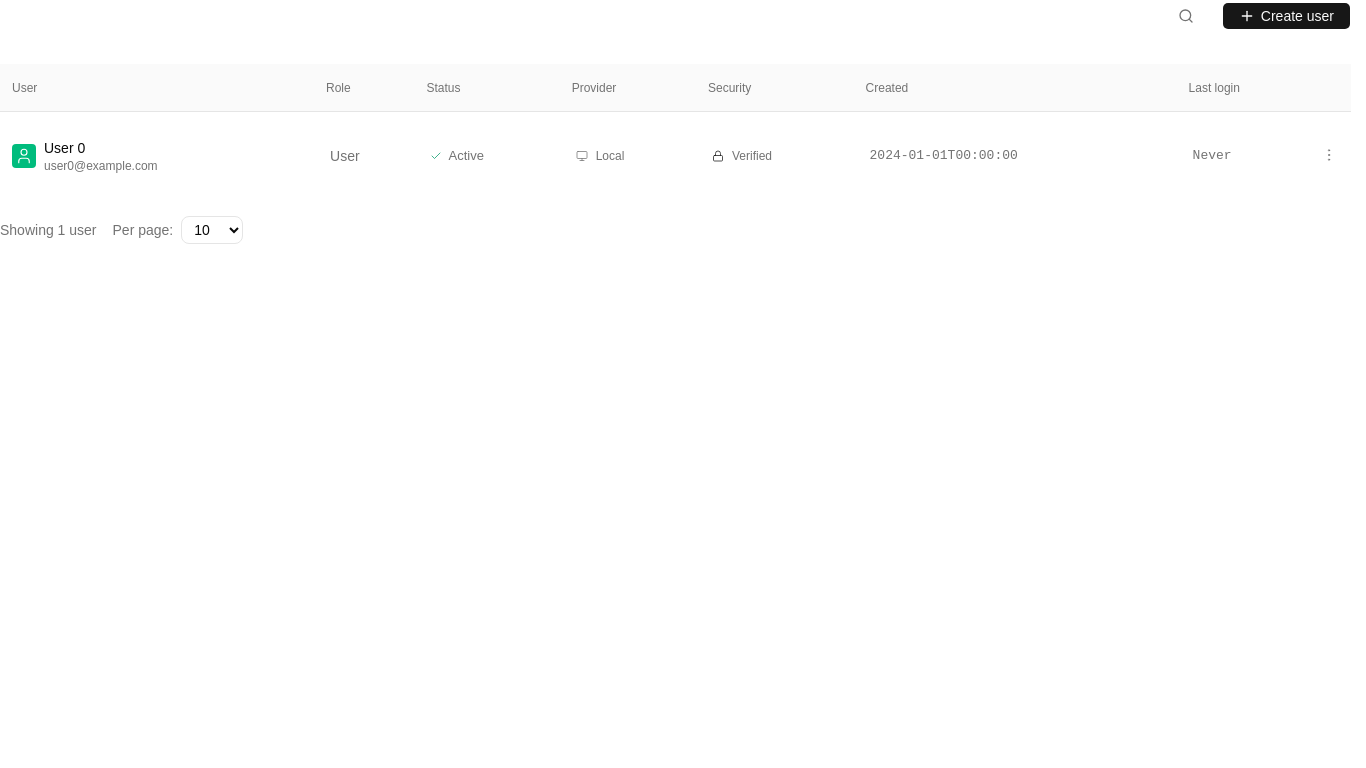
Test: Users › optimistically removes user from list immediately on delete confirmation
Expected: the text "user0@example.com" is shown, 44,158 -> 158,174
Click the button named "Actions for User 0" at (1329, 154), box 1319,144 -> 1339,164
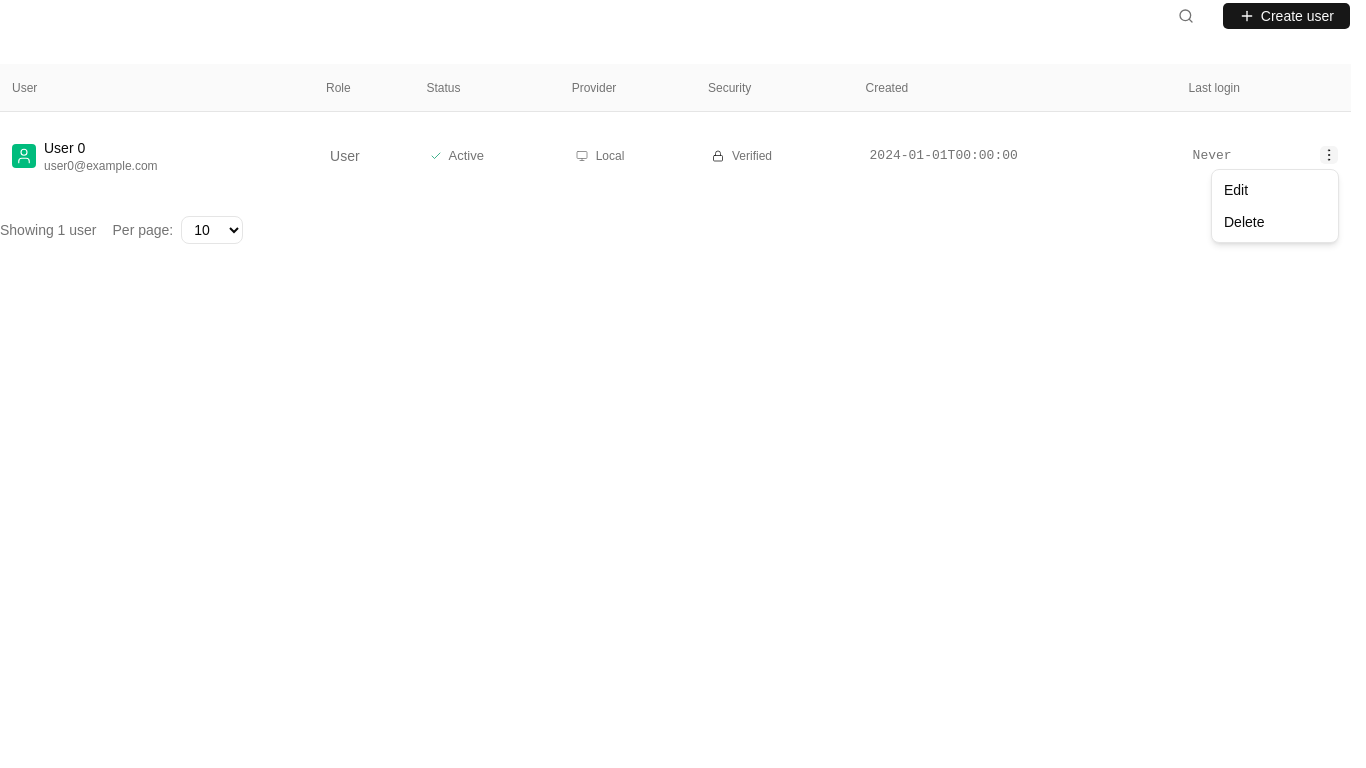
Click the menu item "Delete" at (1244, 222), box 1224,214 -> 1264,230
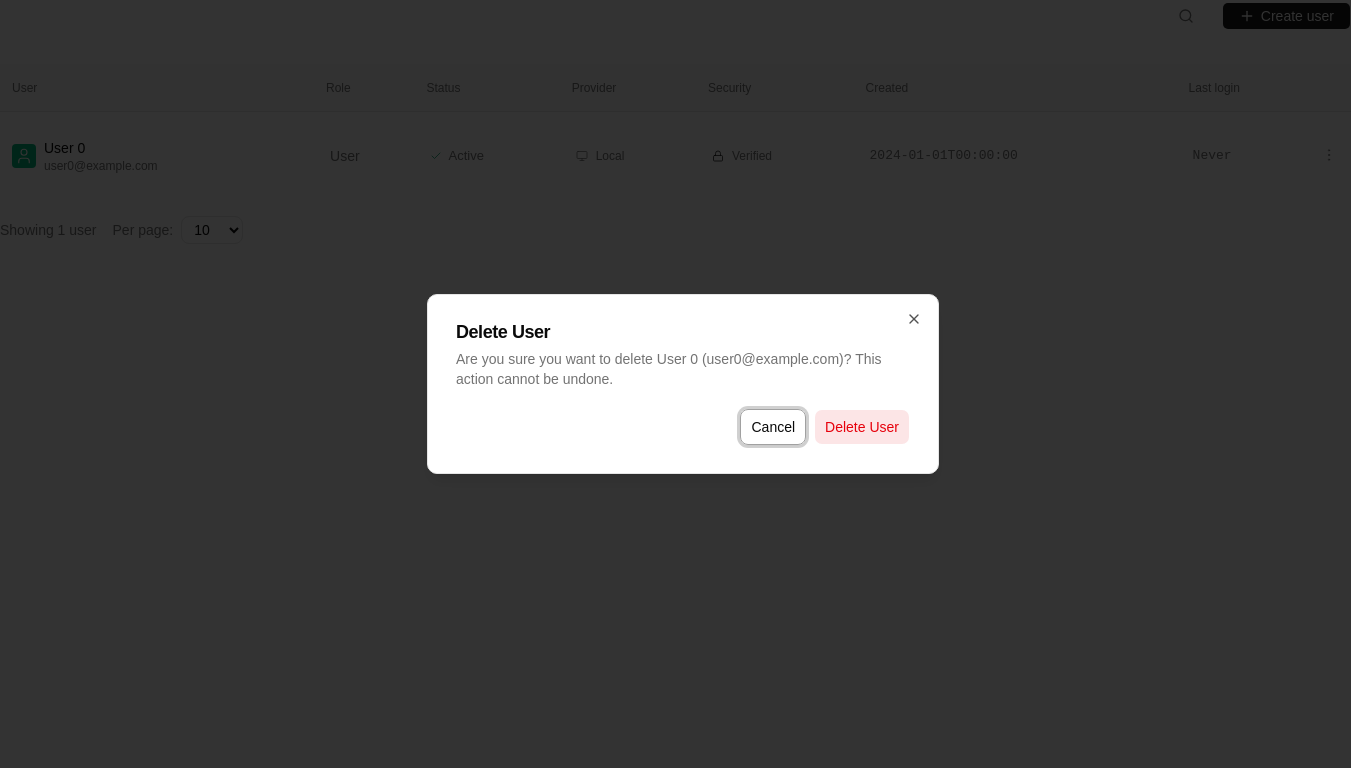
Click the button "Delete User" at (862, 427), box 814,409 -> 910,445
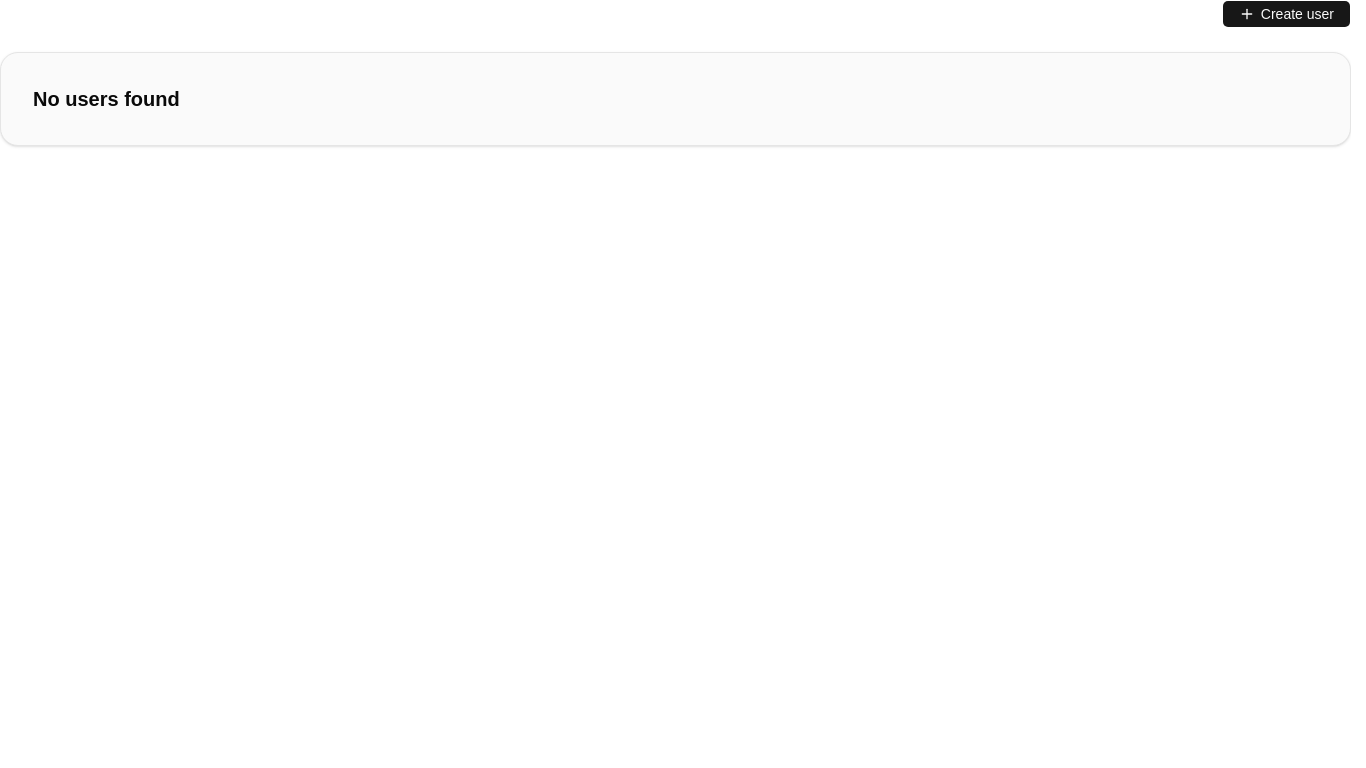
Now the text "user0@example.com" is gone
Now the heading "Delete User" is gone
